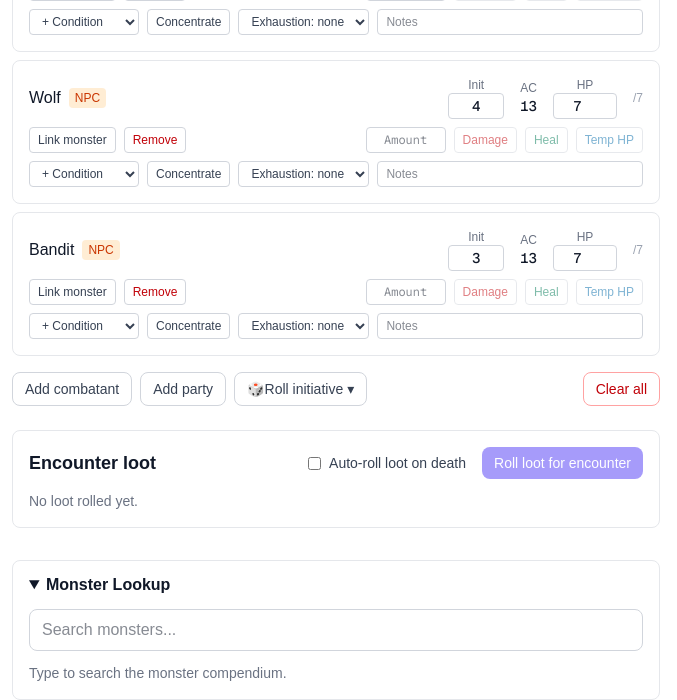
InitiativeTrackerPage › roll NPC initiatives › opens a menu rather than showing the actions inline
(page scrolled)
expect the menu item "Each NPC separately" is not shown: met
What coordinates should you click on to do the following:
click the button "🎲 Roll initiative ▾"
I would click on:
 (301, 389)
Its box is [234,372,367,406].
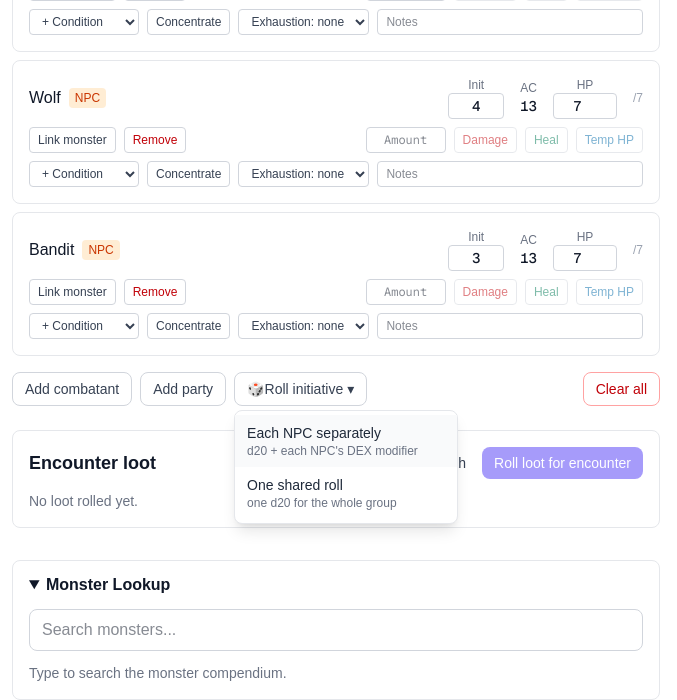
expect the menu item "Each NPC separately" is shown: met, box [235,415,457,467]
expect the menu item "One shared roll" is shown: met, box [235,467,457,519]
